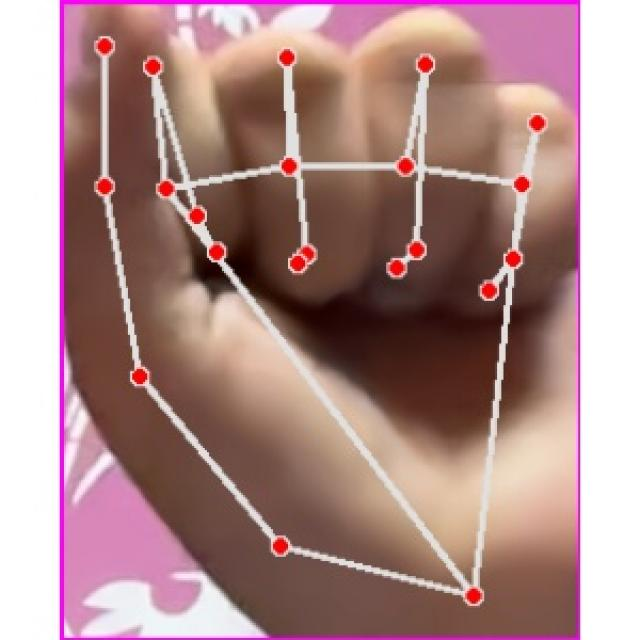A: (70, 8, 578, 640)
